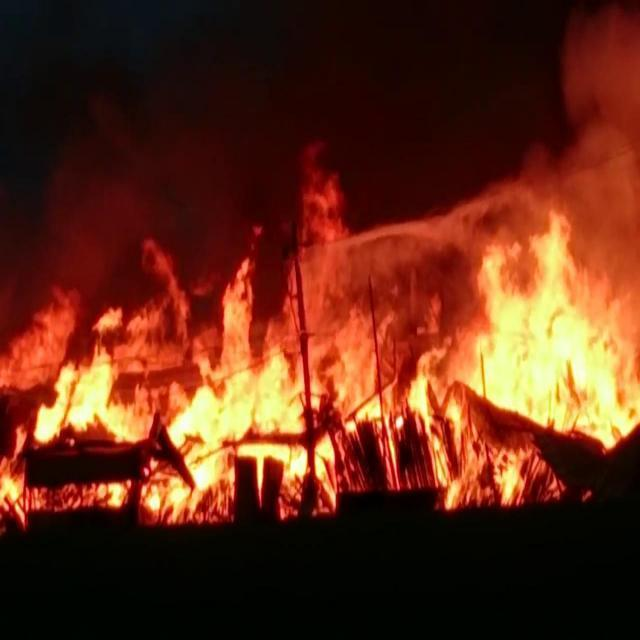Fire: (0, 184, 640, 518)
Smoke: (561, 10, 640, 180)
